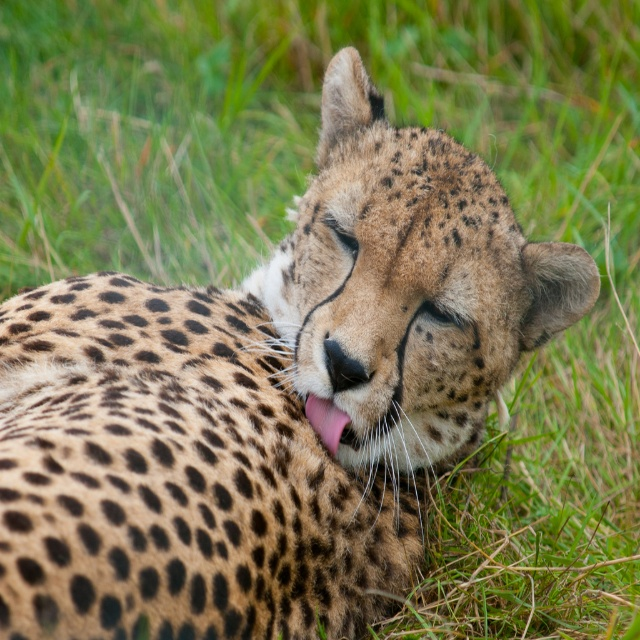Cheetah: (0, 44, 602, 639)
